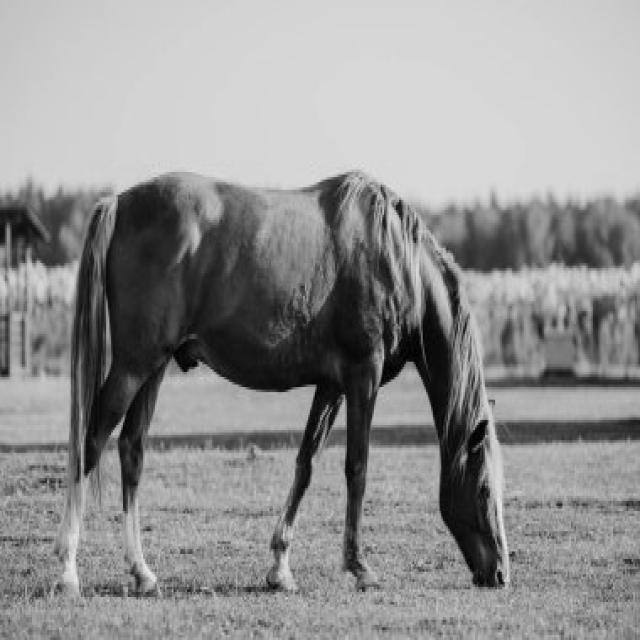Animal: (55, 171, 506, 594)
